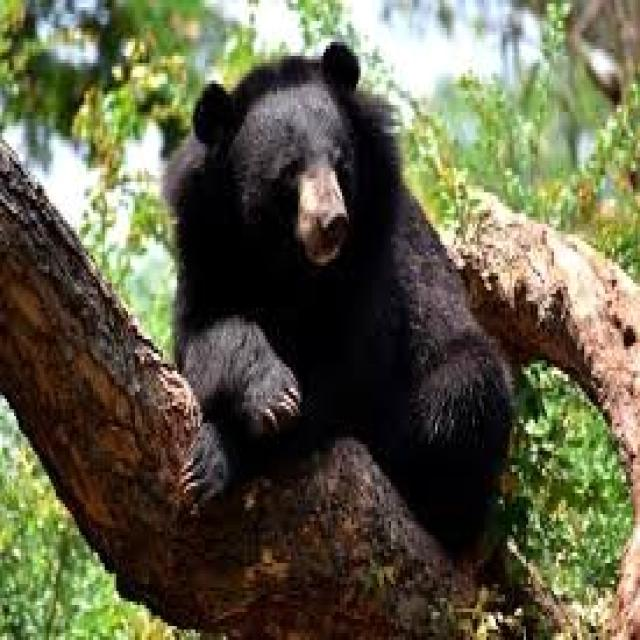bear: (186, 35, 435, 300)
